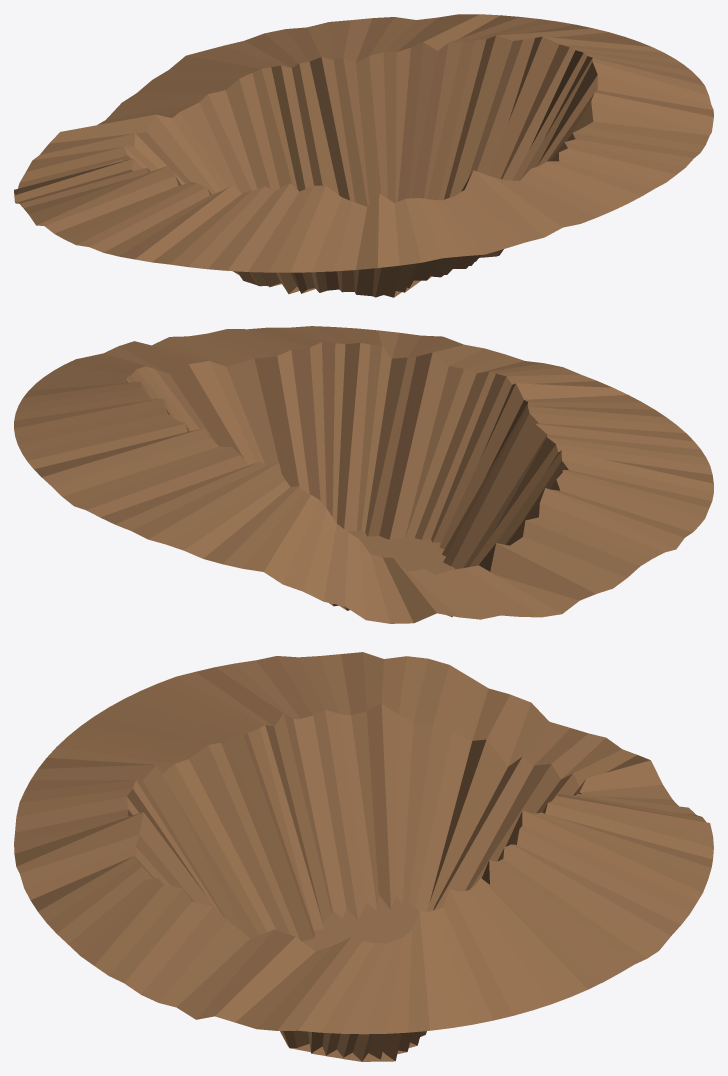
The model's file is BasinWalls.fbx.
3 views of the same model, one above another, from view 1: azimuth 30°, elevation 25°; view 2: azimuth 150°, elevation 25°; view 3: azimuth 270°, elevation 25° (orthographic). The views are drawn at different scales.
Visible parts, largest first — view 1: Basin; view 2: Basin; view 3: Basin.
Boxes of the visible parts, x1=… form: Basin: x1=14, y1=14, x2=713, y2=297; Basin: x1=14, y1=326, x2=713, y2=623; Basin: x1=14, y1=652, x2=713, y2=1061.
Bounding box in the file's own units: 7705 × 5877 × 1851.
